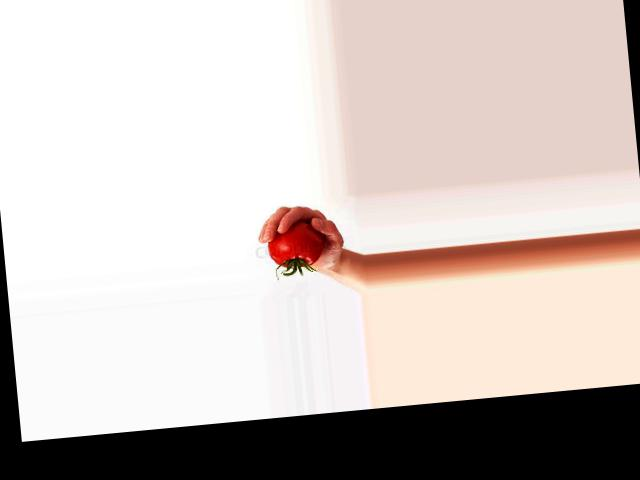tomato: (266, 218, 324, 270)
